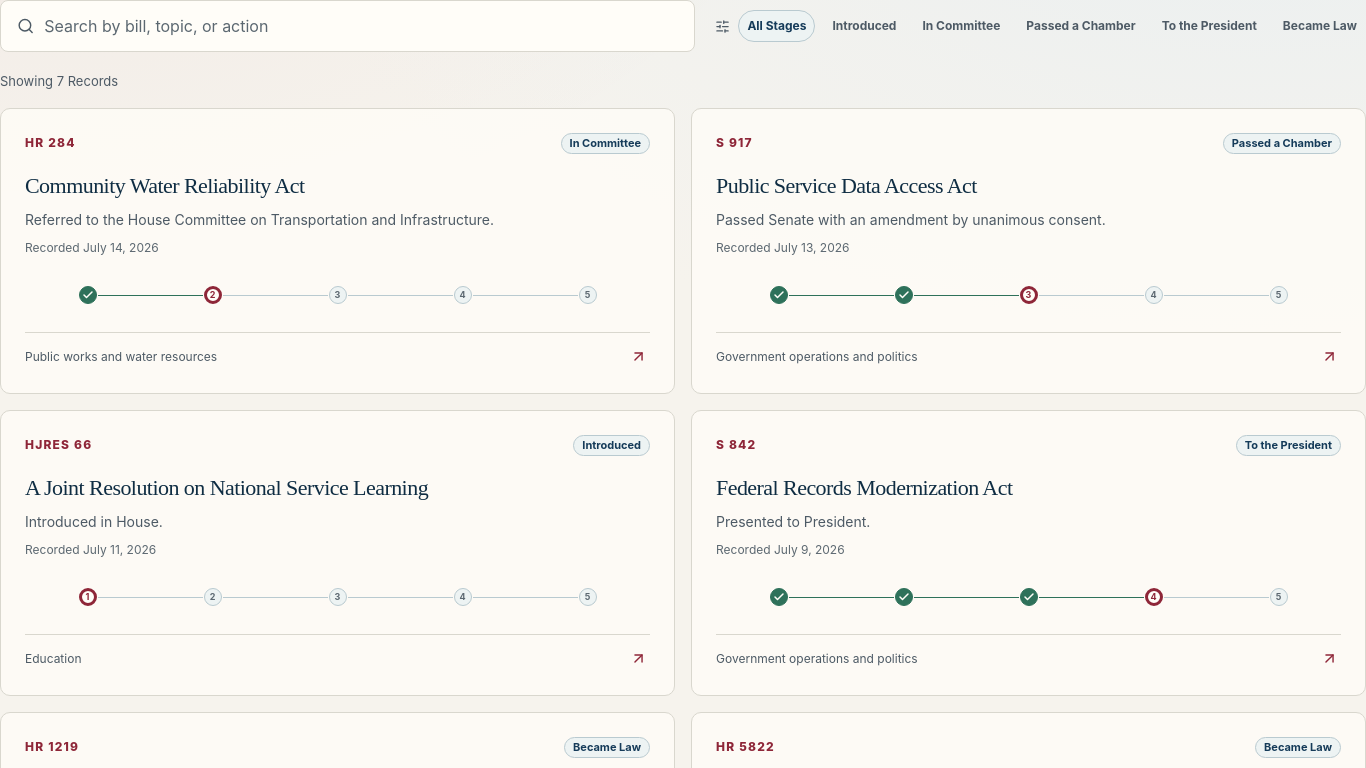
Scenario: BillDirectory › searches via /api/bills/search (debounced) and uses the singular label for exactly one match
This screenshot has width=1366, height=768.
Type "Community Water Reliability Act" into the search field named "Search bill records" at (360, 26), box top-left (42, 13), bottom-right (678, 39)
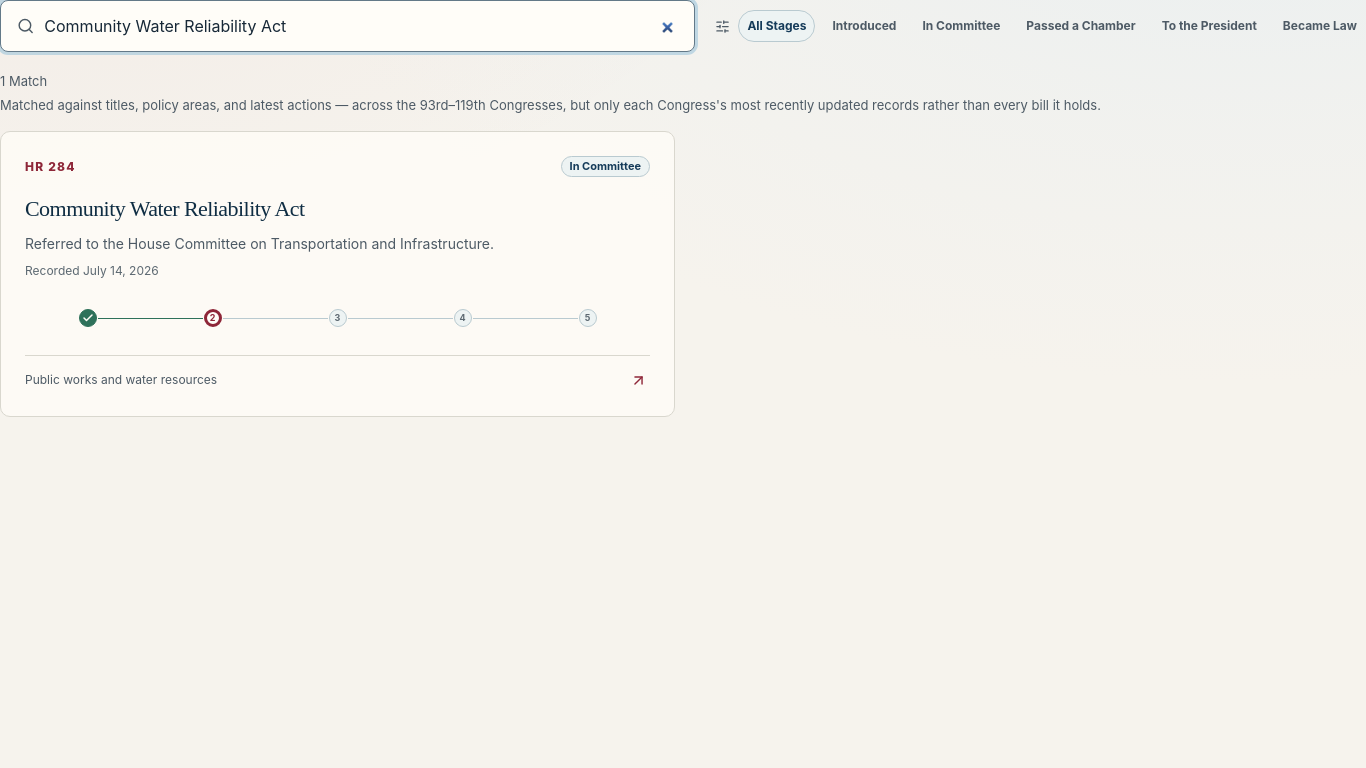
Result: the text "1 Match" is shown at top-left (0, 73), bottom-right (47, 89)
